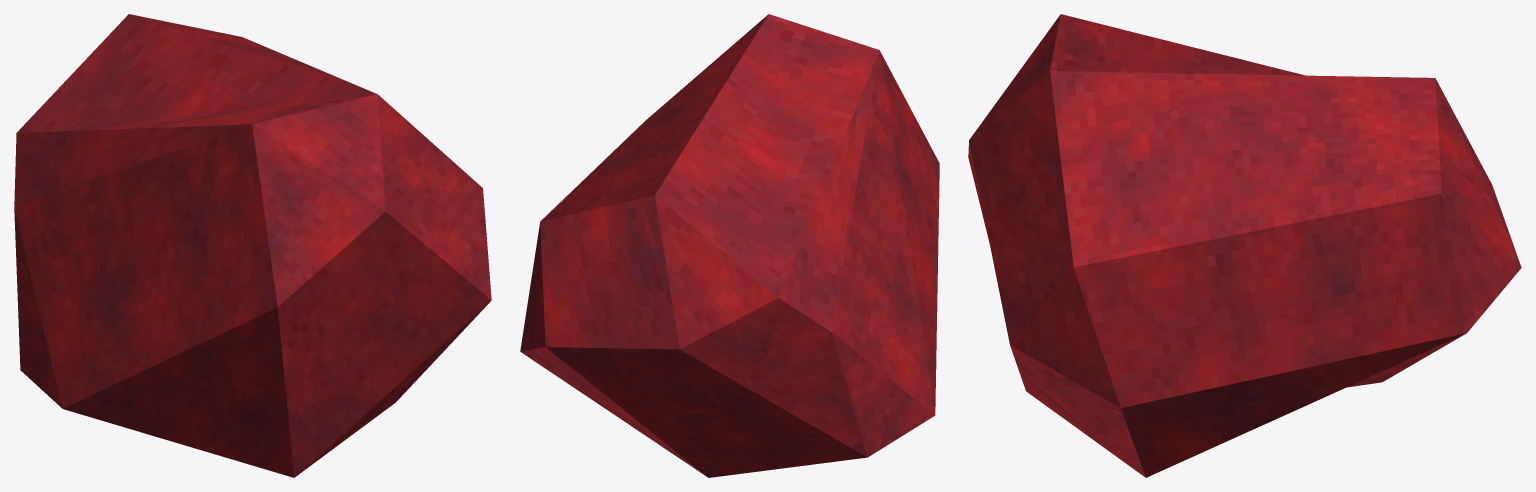
The model's file is gib_generic_0.glb.
3 renders of one model, left to right at view 1: azimuth 30°, elevation 25°; view 2: azimuth 150°, elevation 25°; view 3: azimuth 270°, elevation 25°, orthographic. The views are drawn at different scales.
Parts seen in each view (by area): view 1: gib_type0; view 2: gib_type0; view 3: gib_type0.
Part boxes in pixels (x1,y1,x2,y2): gib_type0: (14, 14, 491, 477); gib_type0: (520, 14, 939, 477); gib_type0: (968, 14, 1521, 477).
Size of the model in its own units: 0.4369 by 0.415 by 0.5408.
Materials: 1 (1 with a texture image).
